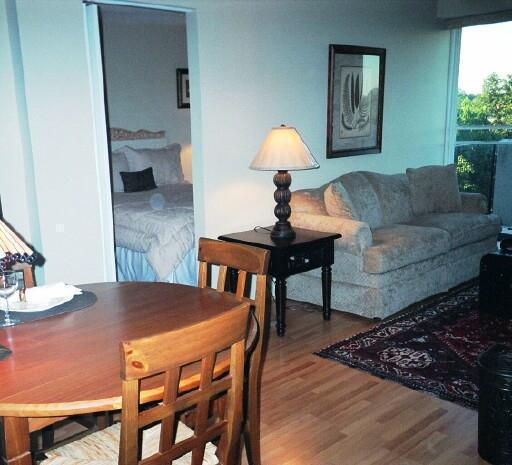Cama: (117, 140, 199, 283)
